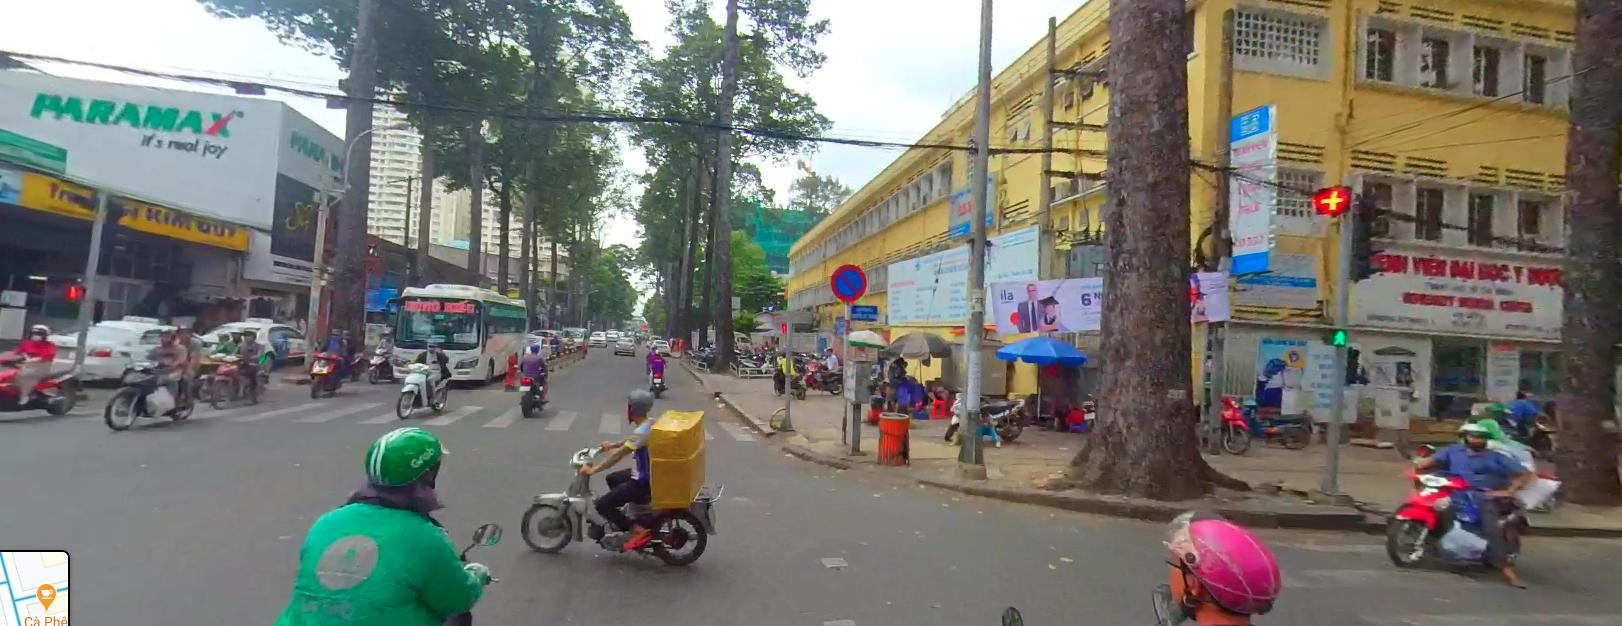Cam dung va do: (824, 257, 870, 301)
